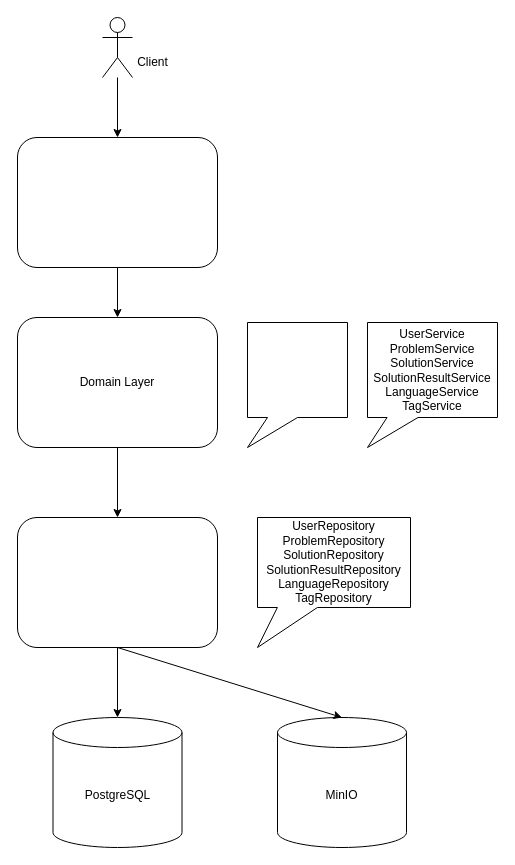
This 515x865 diagram has some shape labels left out. The shapes that lost their labels are listed below. From the top down, each one's centre as x and y in pixels, then its label:
point 117,202: Presentation Layer
point 297,385: User Problem Solution SolutionResult Language Tag
point 117,582: Data Layer
